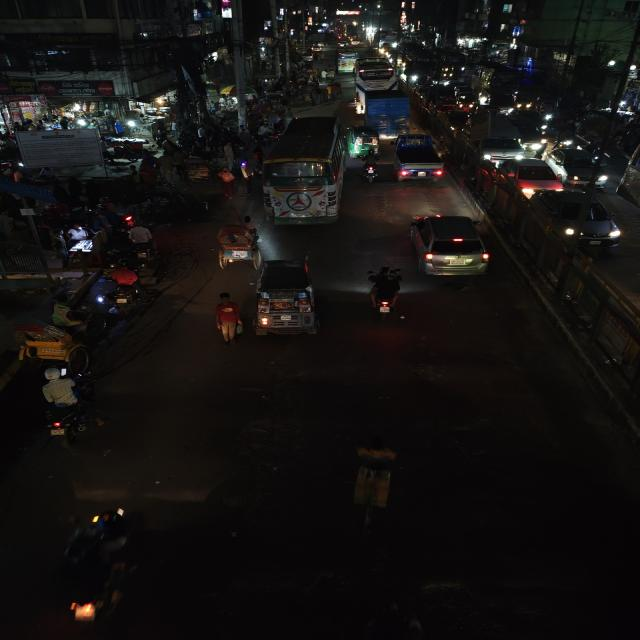bicycle: (208, 290, 243, 347)
bus: (259, 114, 347, 230), (473, 62, 525, 94), (352, 55, 397, 91), (335, 50, 357, 74)
car: (405, 210, 494, 280), (530, 189, 625, 253), (488, 158, 564, 200), (546, 146, 610, 185), (475, 135, 526, 162), (507, 108, 549, 136)
cng: (251, 254, 322, 340), (346, 123, 382, 159)
motorcycle: (45, 505, 145, 637), (35, 367, 100, 446), (364, 264, 407, 322), (107, 260, 156, 296), (363, 152, 382, 184)
pedestrian: (207, 288, 244, 348), (121, 219, 156, 257)
pickup_van: (392, 132, 445, 184)
rickshaw: (10, 301, 114, 374), (212, 219, 262, 270)
truck: (355, 87, 412, 137)
